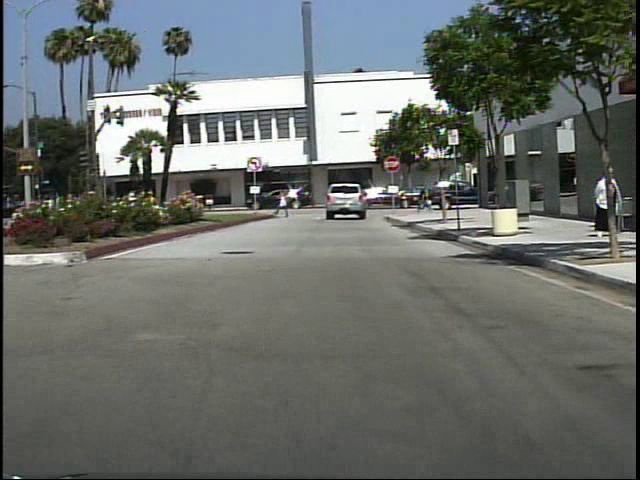person: (590, 167, 621, 239), (275, 183, 295, 219), (417, 180, 430, 215)
